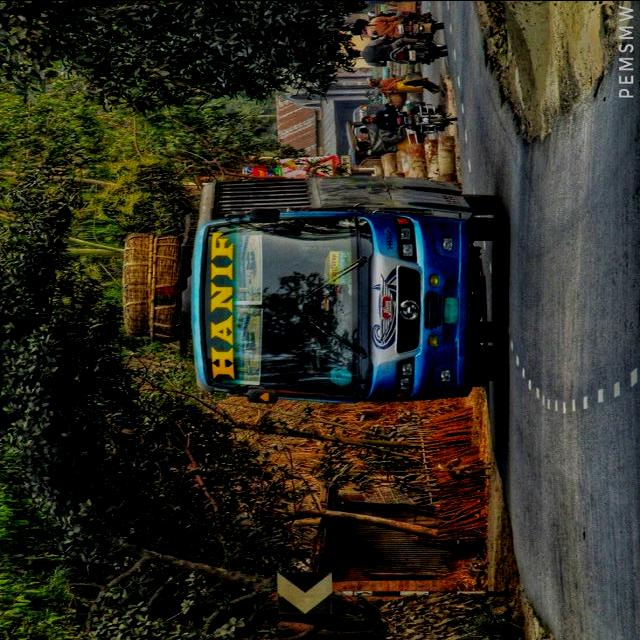bus: (180, 175, 512, 406)
